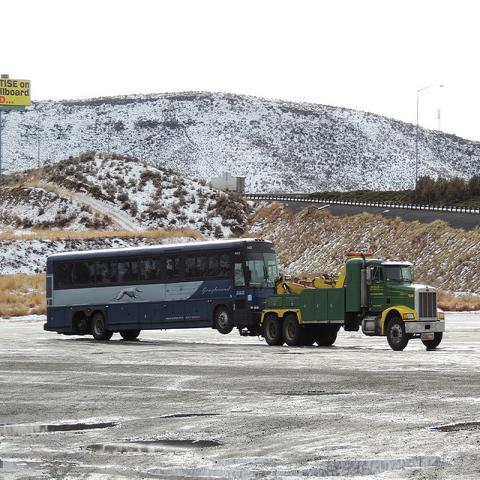bus: (42, 236, 281, 340)
truck: (257, 255, 447, 352)
